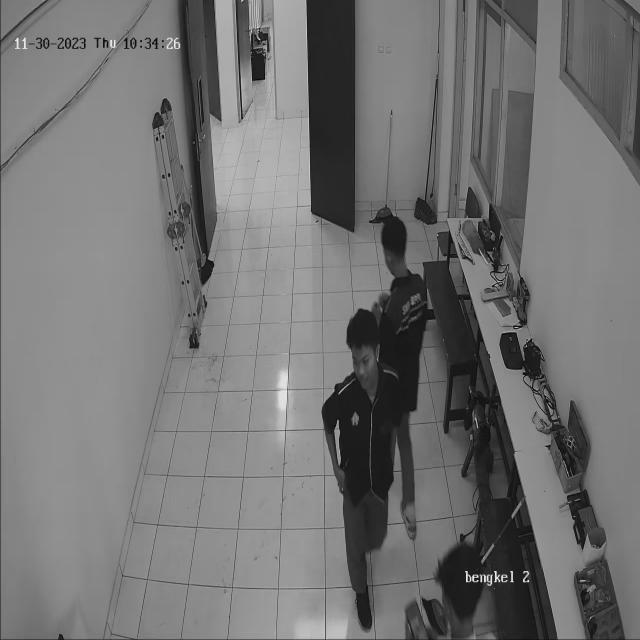person: (341, 313, 392, 635), (382, 206, 428, 534)
